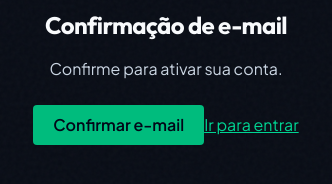
Scenario: App smoke test › requires an explicit action to consume the email token
Click the button "Confirmar e-mail". click: click(119, 125)
box: [33,105,204,145]
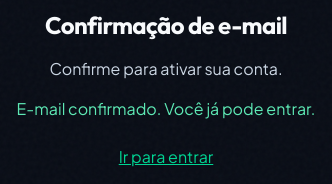
expect the text "E-mail confirmado. Você já pode entrar." is shown: met, box [16,98,315,119]
